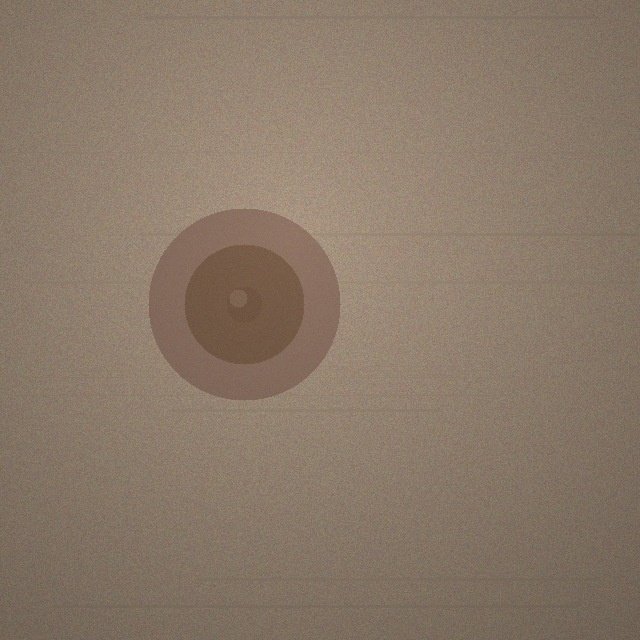good: (148, 208, 340, 400)
